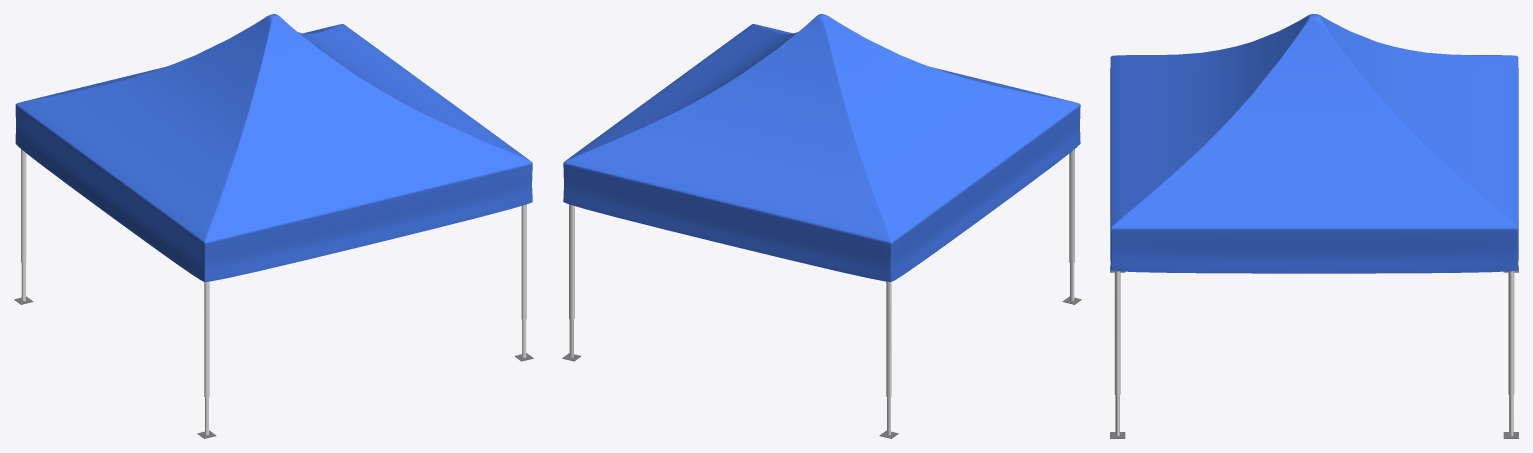
Rendered from tent.glb.
3 views of the same model, side by side, from view 1: azimuth 30°, elevation 25°; view 2: azimuth 150°, elevation 25°; view 3: azimuth 270°, elevation 25° (orthographic). The views are drawn at different scales.
Parts seen in each view (by area): view 1: roof, polySurface32, polySurface75, polySurface150; view 2: roof, polySurface150, polySurface201, polySurface32; view 3: roof, polySurface201, polySurface75.
Boxes of the visible parts, x1,y1,x2,y2 form: roof: (15, 14, 532, 281); polySurface32: (204, 281, 209, 397); polySurface75: (521, 204, 526, 319); polySurface150: (21, 149, 26, 263); roof: (563, 14, 1080, 281); polySurface150: (886, 281, 891, 397); polySurface201: (569, 204, 574, 319); polySurface32: (1069, 149, 1074, 263); roof: (1110, 14, 1518, 273); polySurface201: (1508, 271, 1514, 395); polySurface75: (1114, 271, 1120, 395).
Size of the model in its own units: 4.15 by 3.78 by 4.15.
